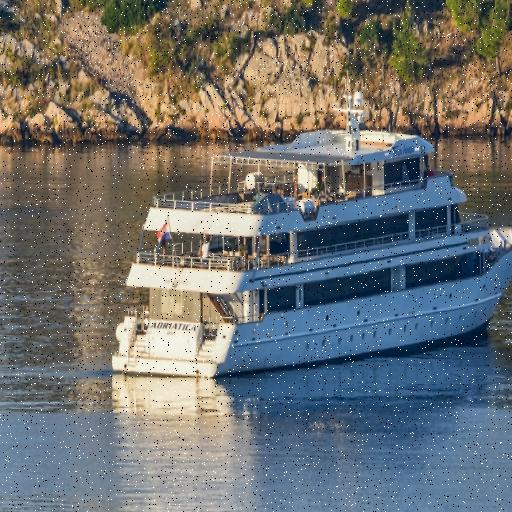cruises: (106, 88, 512, 384)
